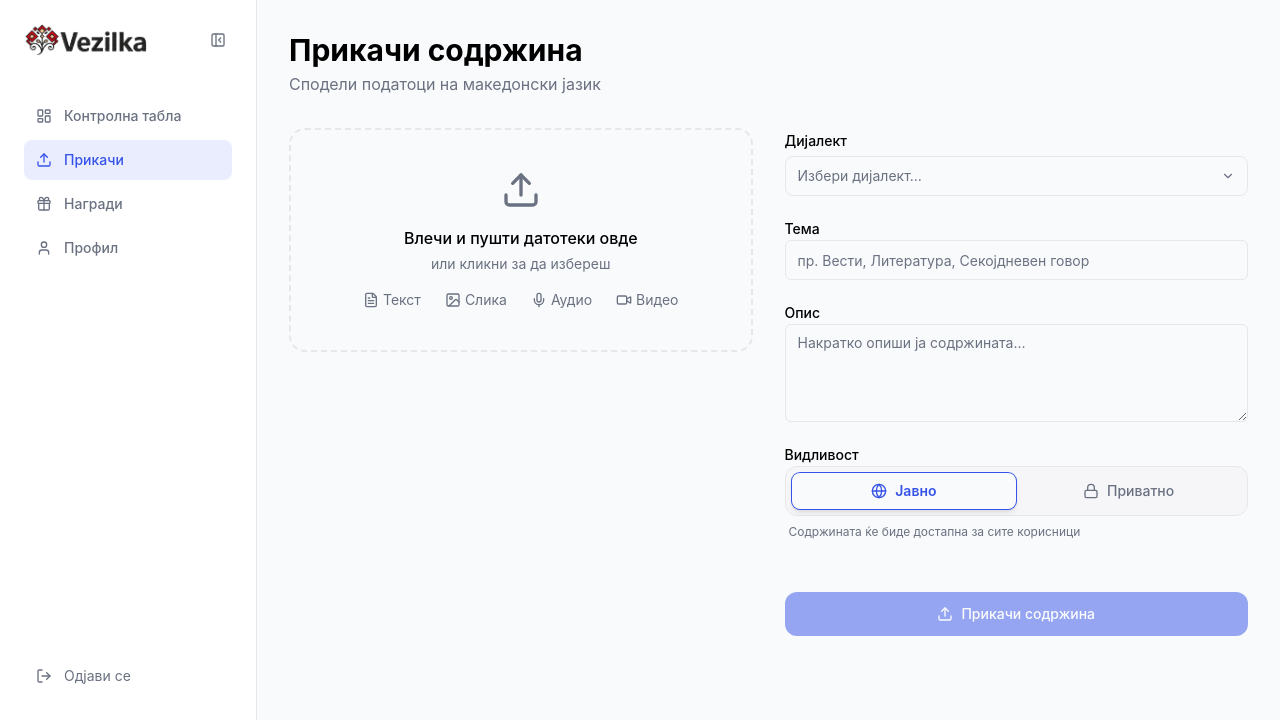
Test: UploadPage › changes visibility to private
Click the button "Приватно" at [1129, 491], box x1=1016 y1=473 x2=1241 y2=509
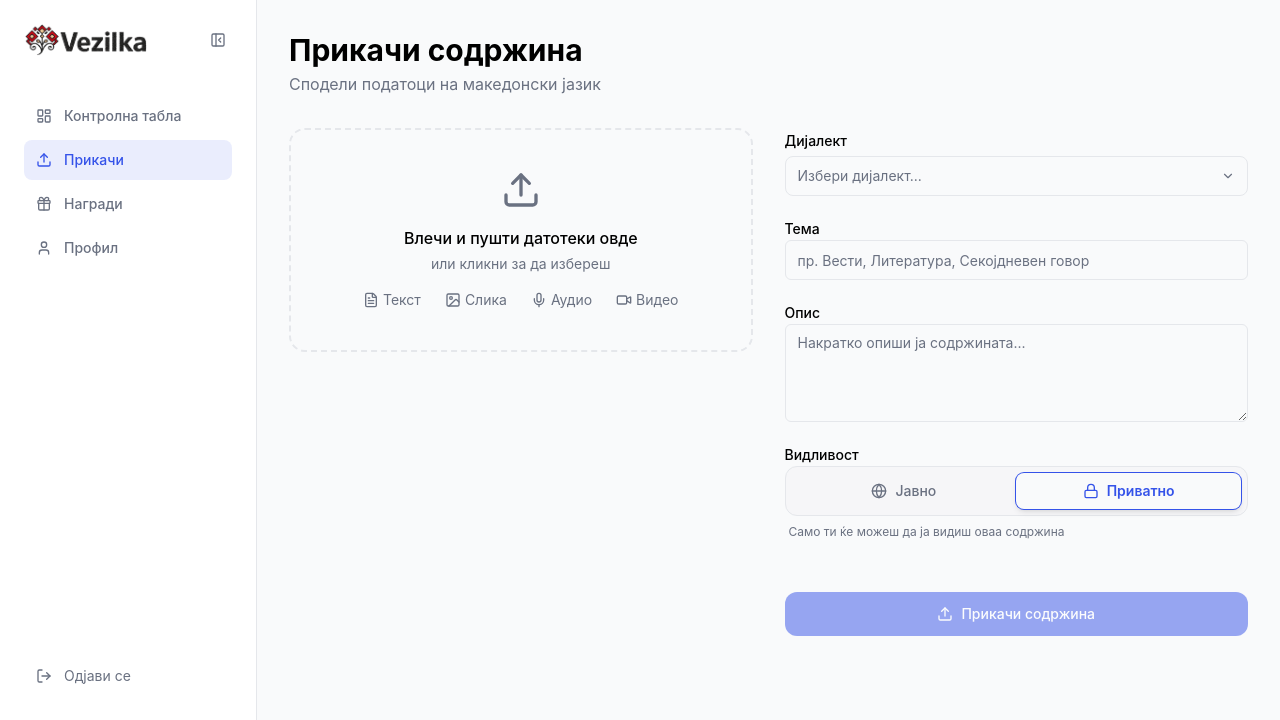
Check: the text "Само ти ќе можеш да ја видиш оваа содржина" is shown, box x1=788 y1=524 x2=1064 y2=539
Check: the text "Содржината ќе биде достапна за сите корисници" is gone
